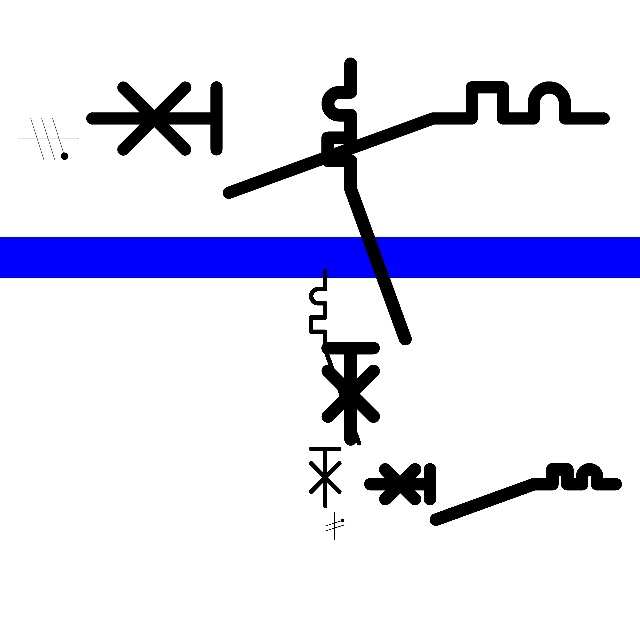interruptor_termomagnetico: (78, 74, 616, 205), (318, 54, 414, 449), (364, 463, 622, 526), (305, 265, 365, 512)
